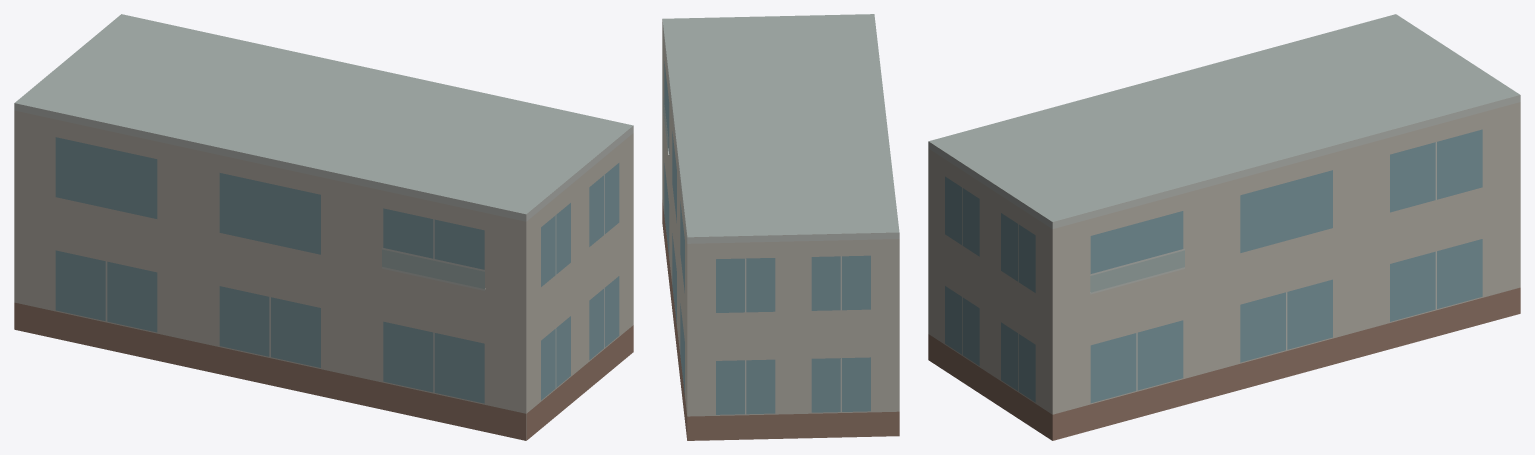
Rendered from survey-upis-32625512.glb.
3 renders of one model, left to right at view 1: azimuth 30°, elevation 25°; view 2: azimuth 150°, elevation 25°; view 3: azimuth 270°, elevation 25°, orthographic. The views are drawn at different scales.
Visible parts, largest first — view 1: survey-upis-32625512.tmp; view 2: survey-upis-32625512.tmp; view 3: survey-upis-32625512.tmp.
Part boxes in pixels (x1=…): survey-upis-32625512.tmp: x1=14, y1=14, x2=633, y2=440; survey-upis-32625512.tmp: x1=662, y1=14, x2=899, y2=440; survey-upis-32625512.tmp: x1=928, y1=14, x2=1520, y2=440.
Bounding box in the file's own units: 15.31 × 7.5 × 18.41.
